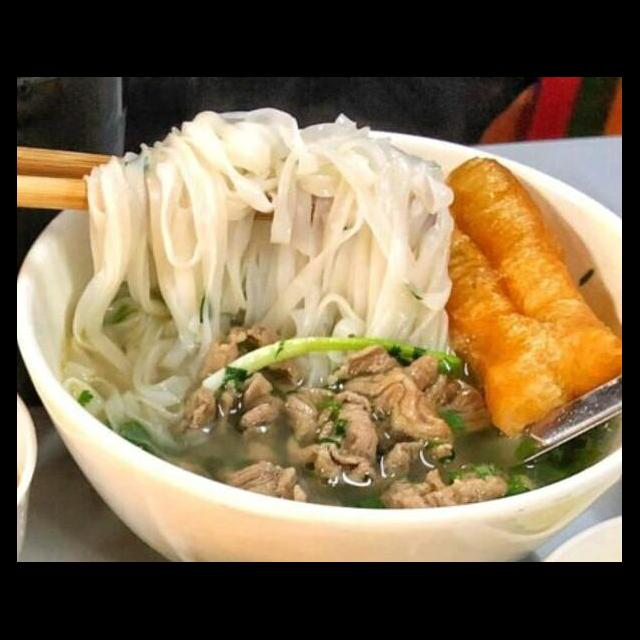banh pho: (70, 106, 467, 350), (59, 328, 218, 456)
pho bo: (19, 120, 622, 562)
thit bo: (318, 338, 500, 448), (280, 384, 392, 494), (173, 366, 290, 448), (376, 460, 522, 520)
